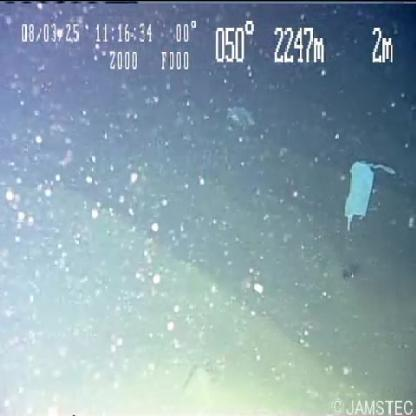Rác: (344, 162, 375, 221)
